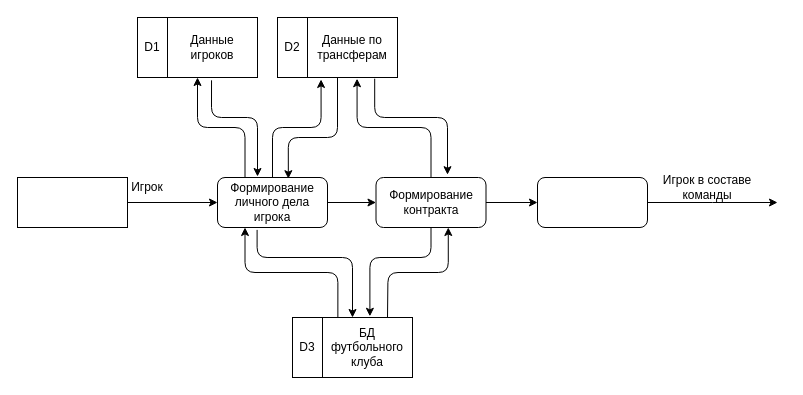
Some shapes in this 803 by 395 pixel diagram are drawn without their labels. Each missing label, with the centre of its shape:
"Рынок игроков" belongs at point (72, 202).
"Согласование и подписание контракта" belongs at point (592, 202).
